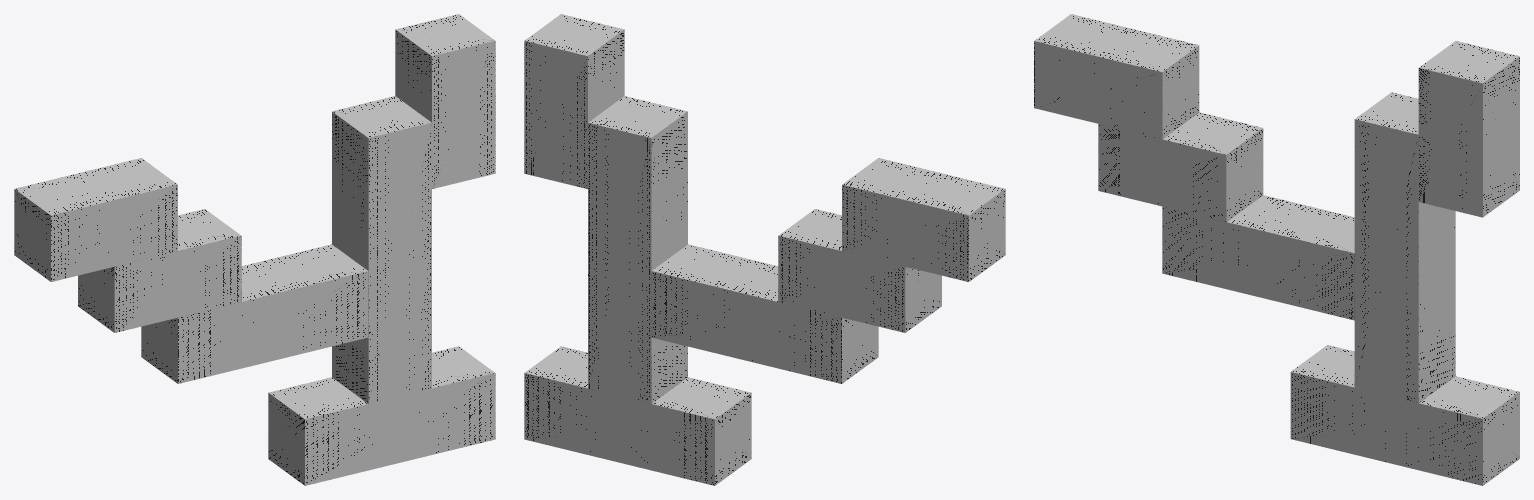
Rendered from dead-grass.fbx.
3 views of the same model, side by side, from view 1: azimuth 30°, elevation 25°; view 2: azimuth 150°, elevation 25°; view 3: azimuth 330°, elevation 25° (orthographic).
Parts seen in each view (by area): view 1: generated; view 2: generated; view 3: generated.
Part boxes in pixels (x1=…): generated: x1=14, y1=14, x2=495, y2=485; generated: x1=524, y1=14, x2=1005, y2=485; generated: x1=1034, y1=14, x2=1519, y2=485.
Bounding box in the file's own units: 70 × 60 × 10.
Materials: 1 (1 with a texture image).
